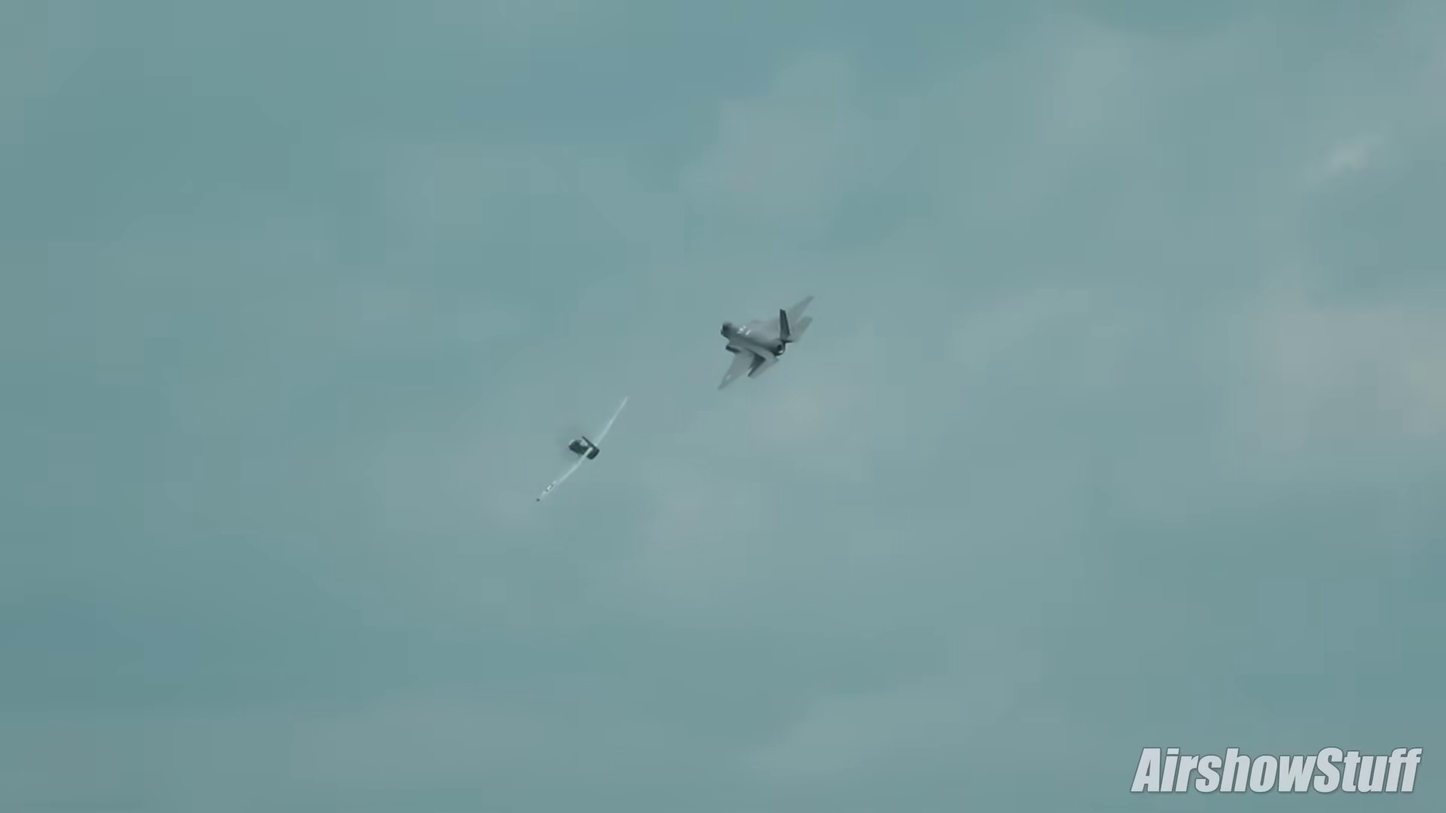F35: (715, 290, 818, 393)
